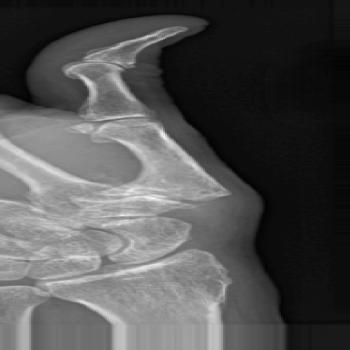Fracture: (49, 53, 100, 79)
